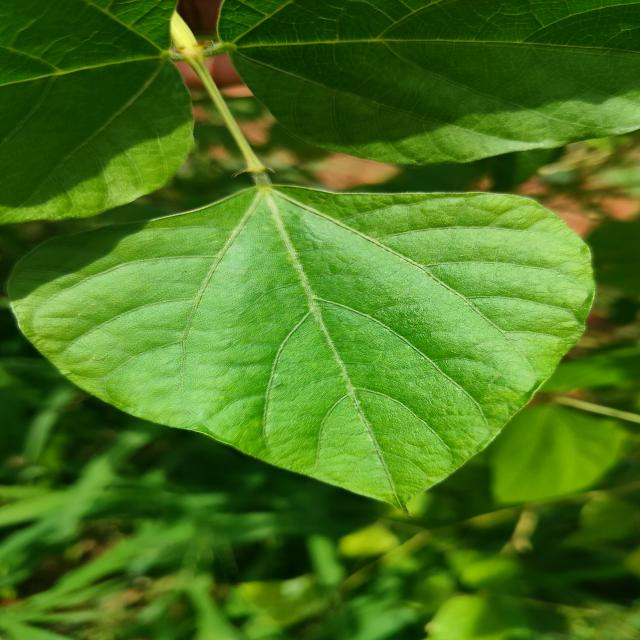Dolicos bean_healthy: (0, 182, 606, 510)
